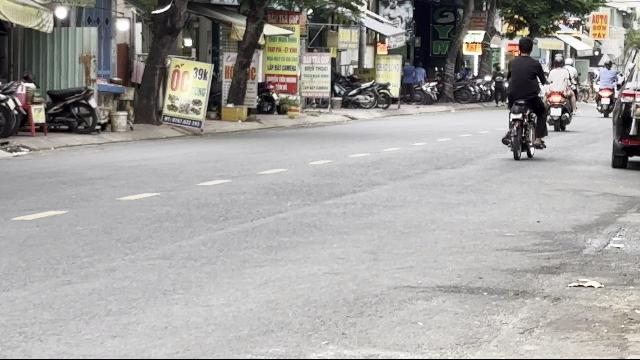motorcyclist: (500, 35, 550, 159)
nohelmet: (516, 36, 534, 56)
